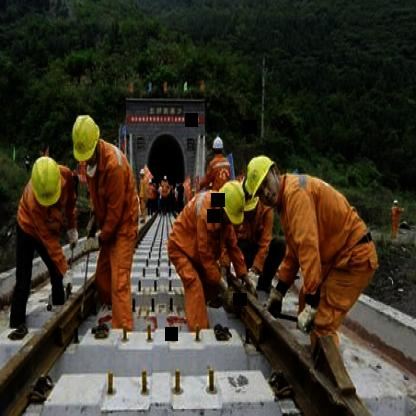helmet: (27, 151, 67, 221), (242, 150, 283, 214), (68, 111, 102, 169), (216, 178, 249, 230), (210, 136, 226, 157)
